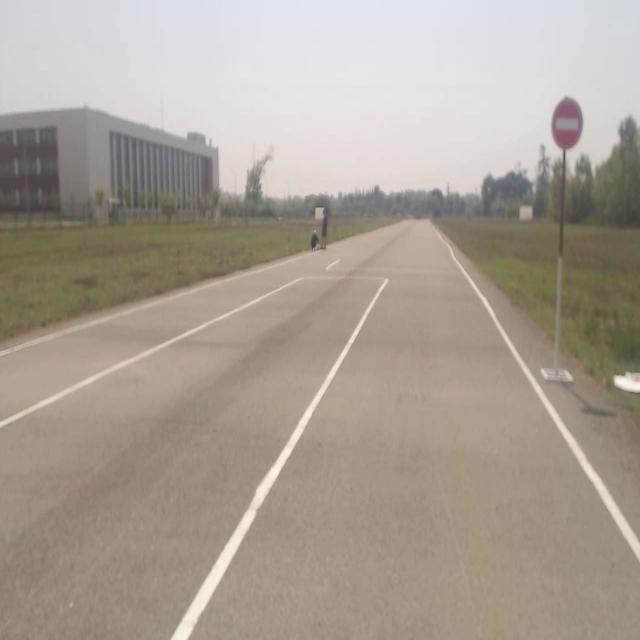girisyok: (552, 100, 582, 148)
